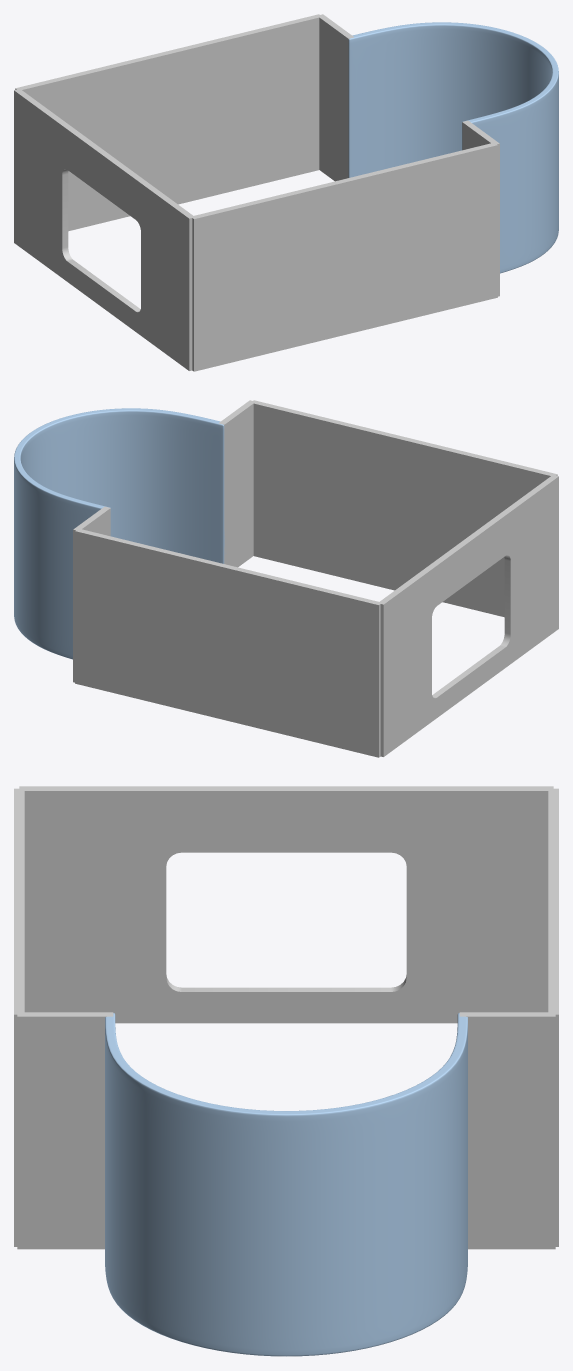
Rendered from walls.gltf.
The picture shows the model from 3 angles, top to bottom: view 1: azimuth 30°, elevation 25°; view 2: azimuth 150°, elevation 25°; view 3: azimuth 270°, elevation 25°; orthographic projection. The views are drawn at different scales.
Visible parts, largest first — view 1: southWall_geo, northWall_geo, circularWall_geo, leftWall_geo, eastWall_geo2, eastWall_geo1; view 2: northWall_geo, southWall_geo, circularWall_geo, leftWall_geo, eastWall_geo1, eastWall_geo2; view 3: leftWall_geo, circularWall_geo, eastWall_geo1, eastWall_geo2, northWall_geo, southWall_geo.
Boxes of the visible parts, <box> form: southWall_geo: <box>191,142,497,371</box>; northWall_geo: <box>15,14,321,231</box>; circularWall_geo: <box>348,22,558,273</box>; leftWall_geo: <box>14,89,193,370</box>; eastWall_geo2: <box>318,14,353,181</box>; eastWall_geo1: <box>462,120,499,296</box>; northWall_geo: <box>75,528,380,757</box>; southWall_geo: <box>253,400,557,617</box>; circularWall_geo: <box>14,408,225,659</box>; leftWall_geo: <box>378,475,558,756</box>; eastWall_geo1: <box>219,400,255,567</box>; eastWall_geo2: <box>73,506,110,682</box>; leftWall_geo: <box>19,786,553,1023</box>; circularWall_geo: <box>105,1013,467,1356</box>; eastWall_geo1: <box>17,1012,113,1249</box>; eastWall_geo2: <box>459,1012,555,1249</box>; northWall_geo: <box>548,788,558,1246</box>; southWall_geo: <box>14,788,24,1246</box>.
Size of the model in its own units: 36.36 by 12.5 by 25.5.
